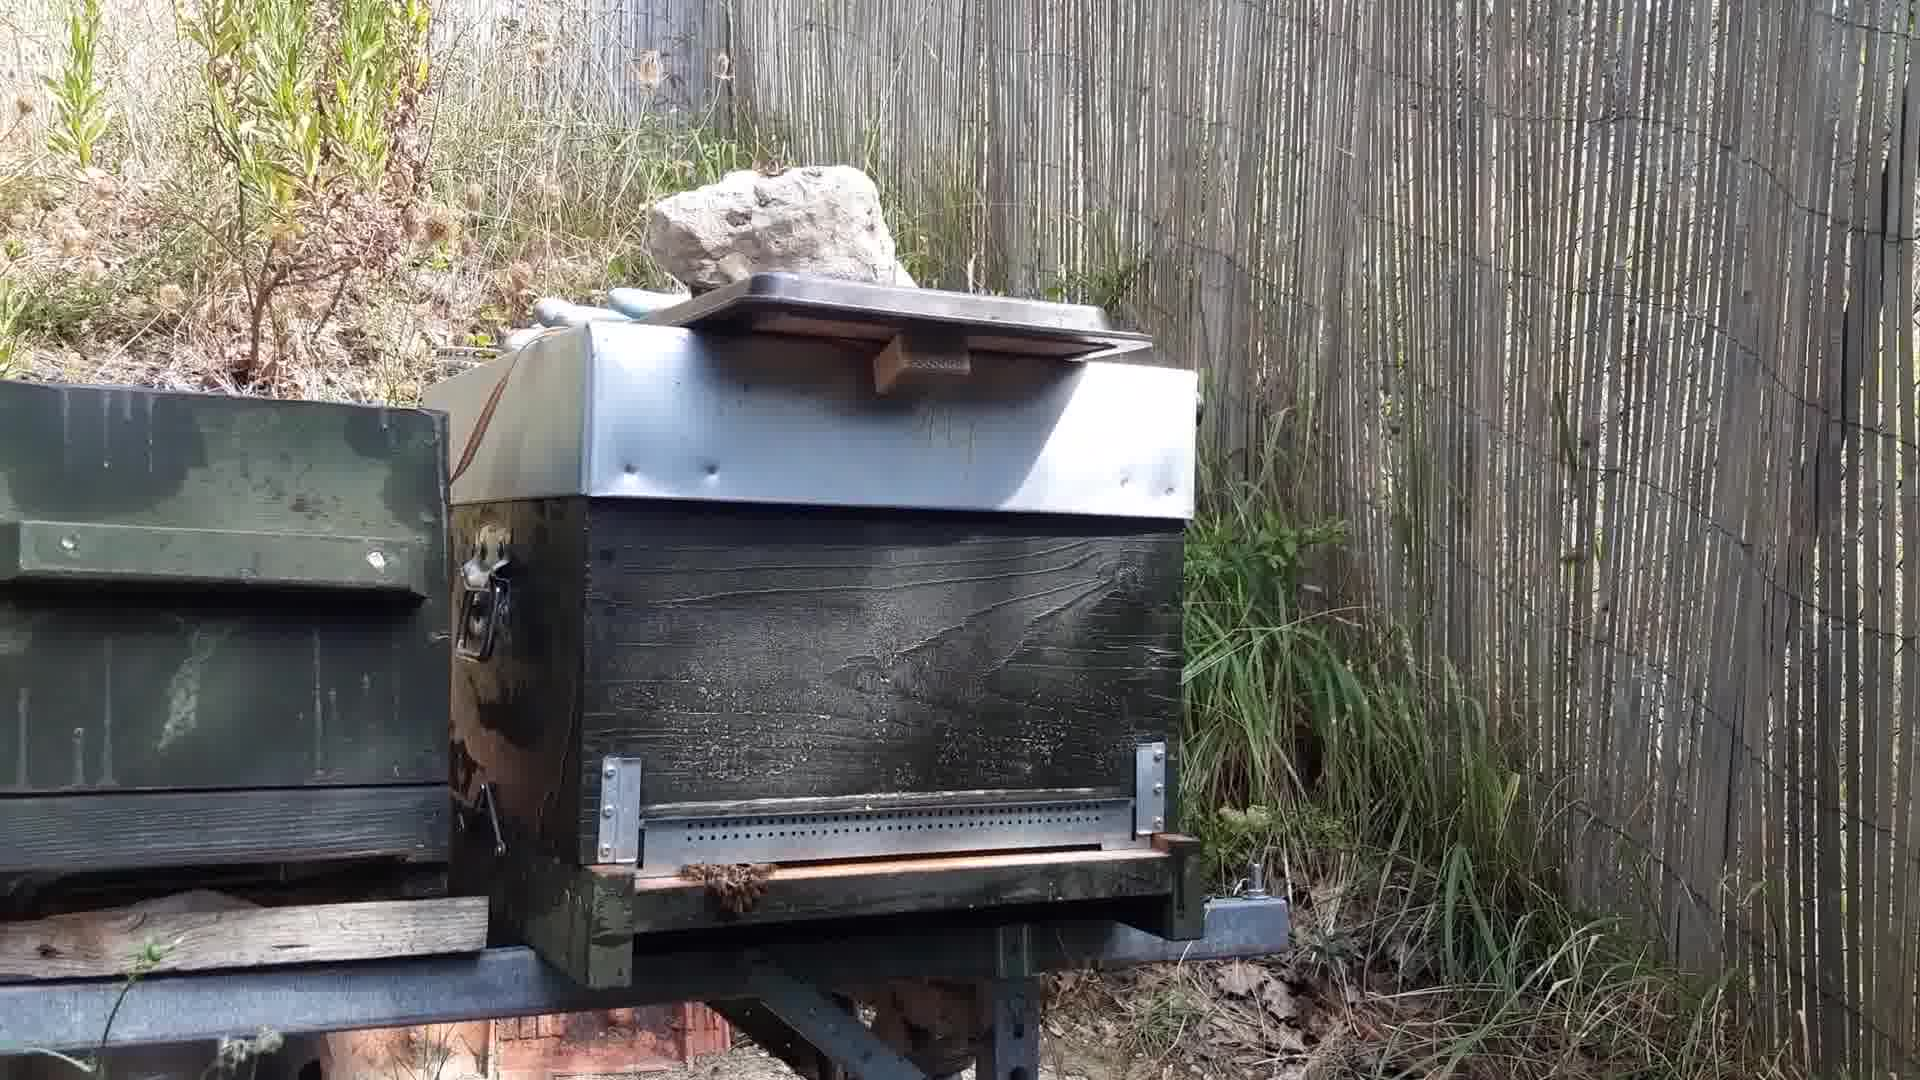bee: (708, 858, 777, 916), (683, 861, 707, 884)
